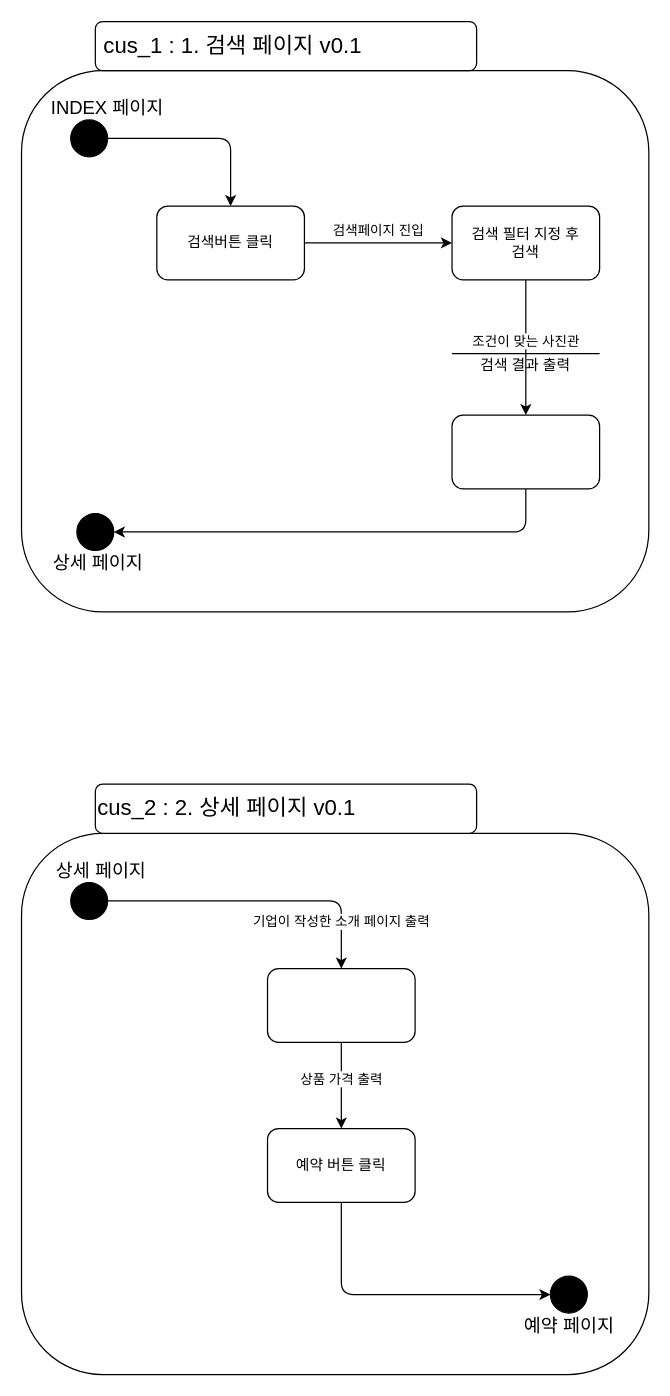
The diagram is 670 pixels wide and 1396 high, and some of its shapes have lost their labels. Here are the shapes that lost their labels. From the top down, the centre of each, then its label:
At point (525, 451): "원하는 페이지 선택".
At point (340, 1004): "예약 메뉴 선택".
